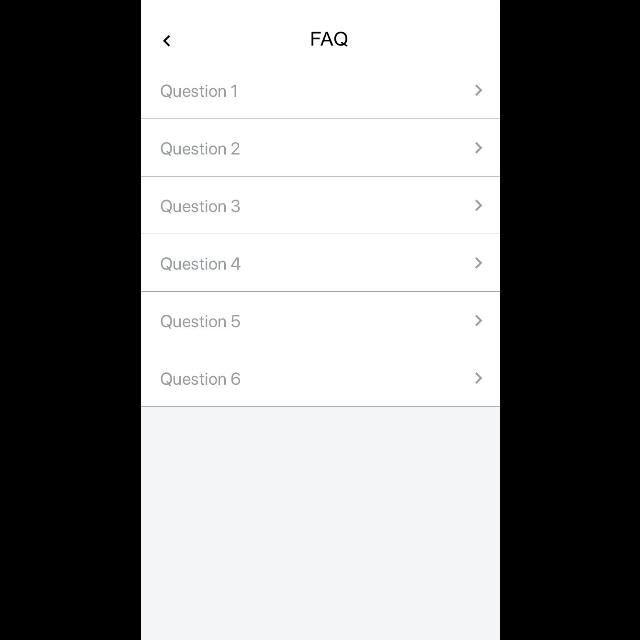icon: (474, 84, 482, 96), (474, 142, 482, 154), (474, 258, 482, 270), (474, 314, 482, 326), (474, 372, 482, 383), (163, 36, 171, 46), (474, 200, 482, 210)
text: (160, 142, 240, 156), (160, 200, 240, 214), (160, 257, 240, 271), (160, 315, 240, 329), (160, 372, 240, 386), (160, 85, 236, 99), (312, 32, 348, 48)
